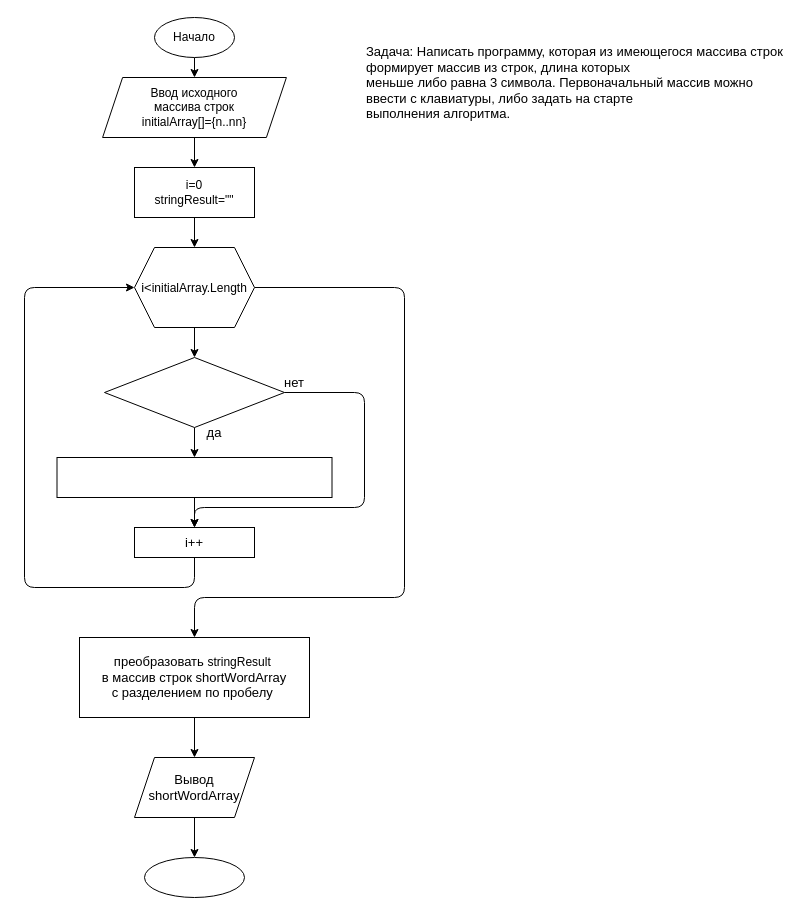
This 812x915 diagram has some shape labels left out. Each missing label, with the box of its shape:
initialArra y[i].length<=3: (104, 356, 284, 428)
stringResult= stringResult + initialArra y[i] + " ": (56, 456, 332, 498)
Конец: (144, 856, 244, 898)
